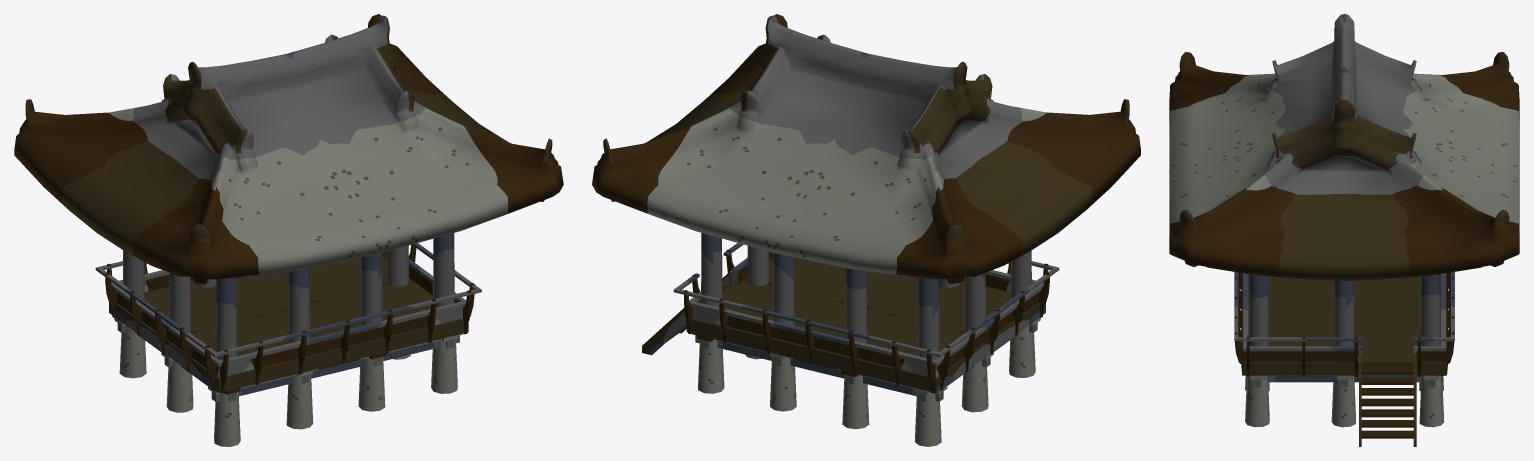
The model's file is lt01arbor.glb.
3 views of the same model, side by side, from view 1: azimuth 30°, elevation 25°; view 2: azimuth 150°, elevation 25°; view 3: azimuth 270°, elevation 25° (orthographic). The views are drawn at different scales.
Parts seen in each view (by area): view 1: _46; view 2: _46; view 3: _46.
Part boxes in pixels (x1,y1,x2,y2): _46: [14, 14, 563, 446]; _46: [592, 14, 1140, 446]; _46: [1169, 14, 1519, 446].
Bounding box in the file's own units: 1.14 × 0.9685 × 0.9733.
1 material, 1 textured.
